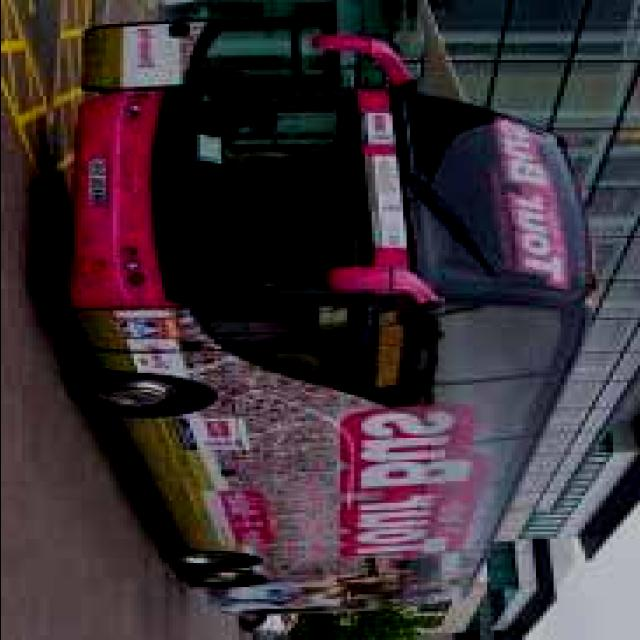bus: (61, 23, 599, 619)
